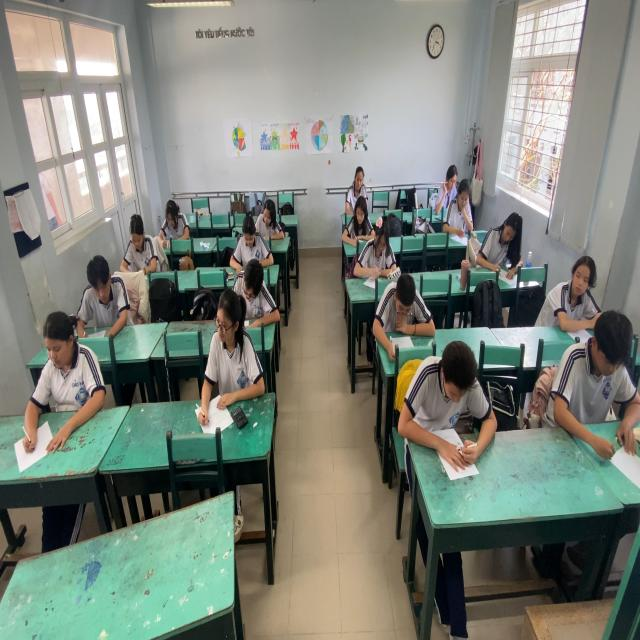cheating: (78, 249, 128, 347)
not_cheating: (411, 340, 483, 474), (570, 302, 629, 454), (36, 306, 95, 424), (205, 295, 258, 404), (374, 262, 427, 338), (473, 200, 523, 272), (359, 208, 404, 276), (549, 252, 590, 321), (118, 214, 160, 280), (238, 260, 268, 329), (158, 193, 190, 248), (236, 217, 269, 261), (257, 190, 286, 236), (447, 175, 467, 230), (346, 194, 372, 233), (345, 161, 368, 204), (438, 165, 456, 208)
